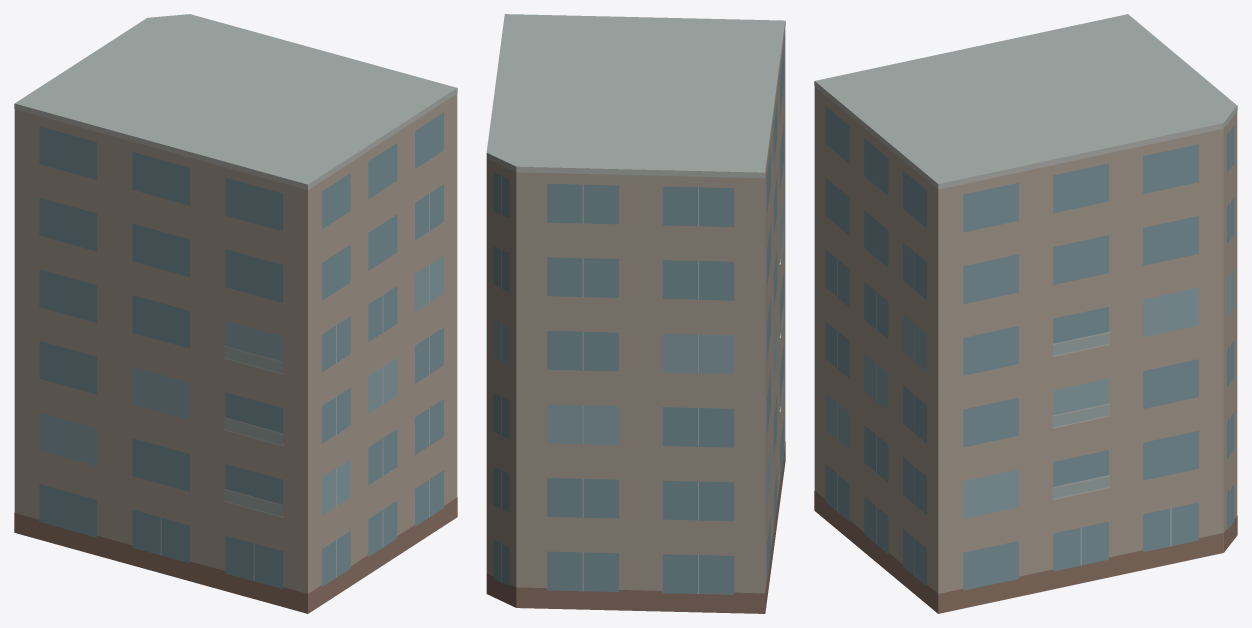
File: survey-upis-32863814.glb
The picture shows the model from 3 angles, left to right: view 1: azimuth 30°, elevation 25°; view 2: azimuth 150°, elevation 25°; view 3: azimuth 270°, elevation 25°; orthographic projection. The views are drawn at different scales.
Parts seen in each view (by area): view 1: survey-upis-32863814.tmp; view 2: survey-upis-32863814.tmp; view 3: survey-upis-32863814.tmp.
Part boxes in pixels (x1=…): survey-upis-32863814.tmp: x1=14, y1=14, x2=457, y2=613; survey-upis-32863814.tmp: x1=486, y1=14, x2=785, y2=613; survey-upis-32863814.tmp: x1=814, y1=14, x2=1237, y2=613.
Bounding box in the file's own units: 16.05 × 18.9 × 16.86.
